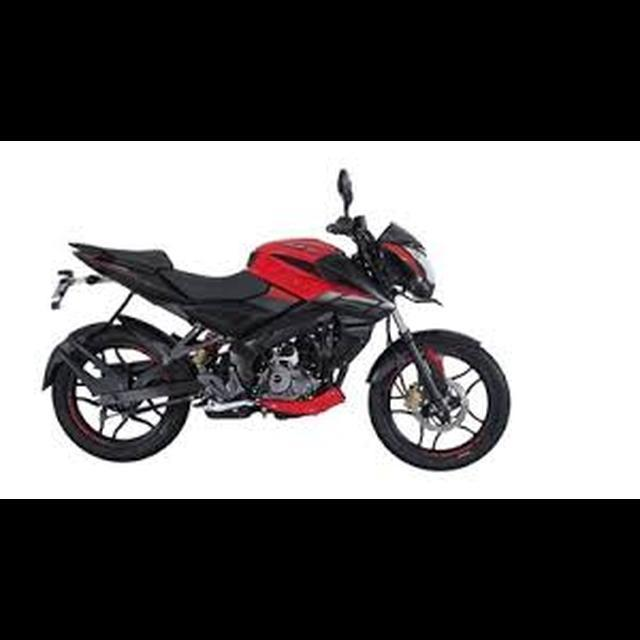motorcycle: (37, 161, 515, 474)
